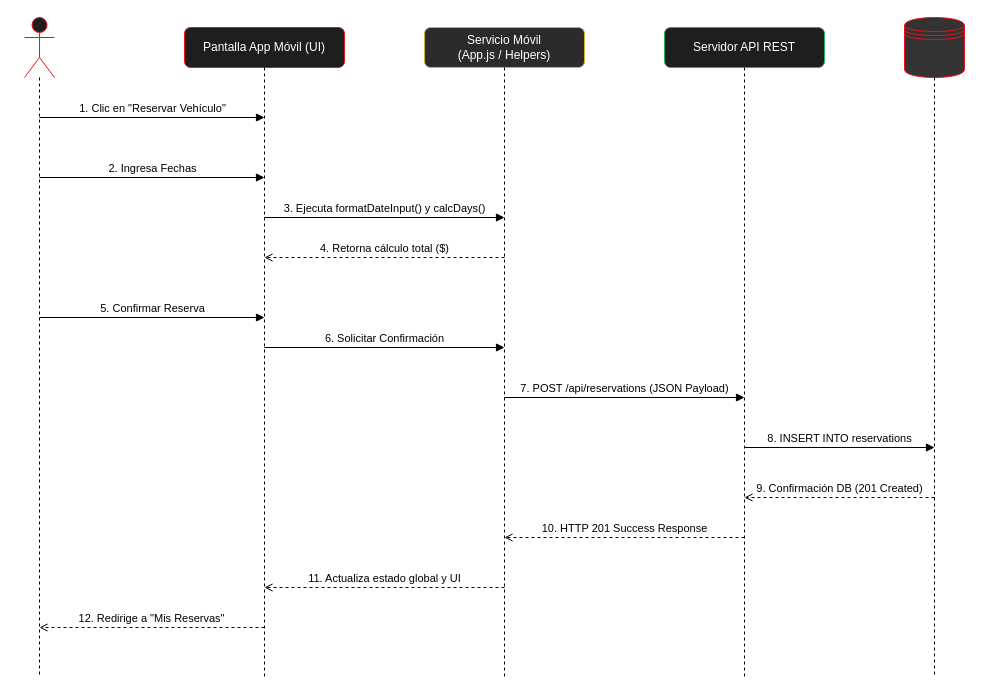
Some shapes in this 982 by 696 pixel diagram are drawn without their labels. Each missing label, with the box of its shape:
Base de Datos: (904, 16, 964, 78)
Usuario (Cliente): (24, 16, 54, 78)
